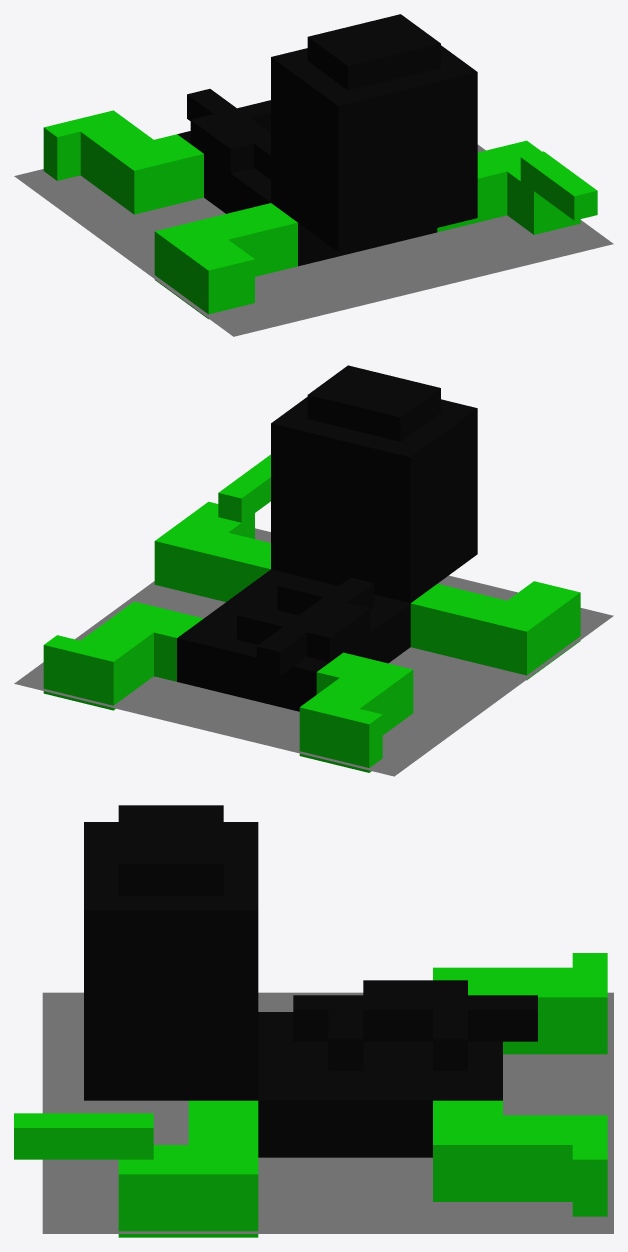
File: snake_unknown_body_v4.FBX
The picture shows the model from 3 angles, top to bottom: view 1: azimuth 30°, elevation 25°; view 2: azimuth 150°, elevation 25°; view 3: azimuth 270°, elevation 25°; orthographic projection. The views are drawn at different scales.
Visible parts, largest first — view 1: snake_unknown_body_v4, snake_unknown_soft_shadow; view 2: snake_unknown_body_v4, snake_unknown_soft_shadow; view 3: snake_unknown_body_v4, snake_unknown_soft_shadow.
Part boxes in pixels (left/top/right/bottom): snake_unknown_body_v4: left=43, top=14, right=597, bottom=319; snake_unknown_soft_shadow: left=14, top=144, right=613, bottom=336; snake_unknown_body_v4: left=43, top=365, right=580, bottom=772; snake_unknown_soft_shadow: left=14, top=528, right=613, bottom=776; snake_unknown_body_v4: left=14, top=805, right=607, bottom=1237; snake_unknown_soft_shadow: left=42, top=992, right=613, bottom=1233.
Size of the model in its own units: 81.79 by 45 by 85.9.
